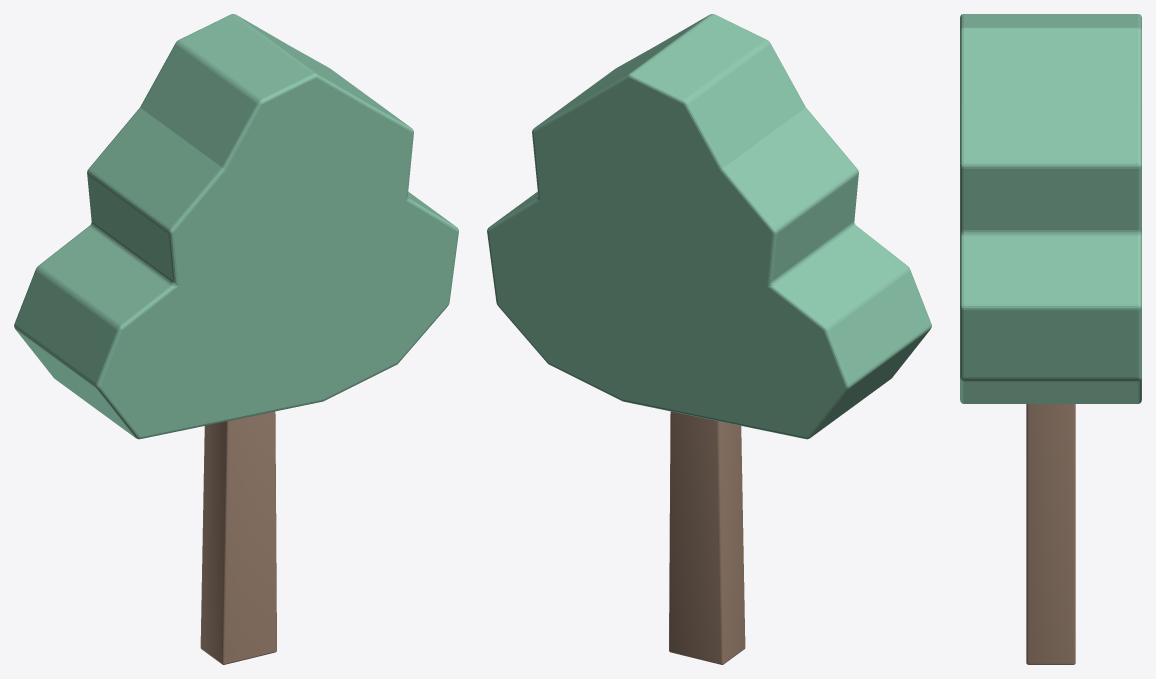
Rendered from RoundTree.fbx.
The picture shows the model from 3 angles, left to right: view 1: azimuth 30°, elevation 25°; view 2: azimuth 150°, elevation 25°; view 3: azimuth 270°, elevation 25°; orthographic projection. The views are drawn at different scales.
Visible parts, largest first — view 1: GraphicTreeCrown, TreeTrunkAndBranches; view 2: GraphicTreeCrown, TreeTrunkAndBranches; view 3: GraphicTreeCrown, TreeTrunkAndBranches.
Boxes of the visible parts, x1,y1,x2,y2 form: GraphicTreeCrown: (14, 14, 458, 439); TreeTrunkAndBranches: (200, 411, 276, 664); GraphicTreeCrown: (487, 14, 931, 439); TreeTrunkAndBranches: (669, 411, 745, 664); GraphicTreeCrown: (960, 14, 1141, 403); TreeTrunkAndBranches: (1026, 404, 1075, 664).
Bounding box in the file's own units: 2.17 × 3.43 × 0.88.
